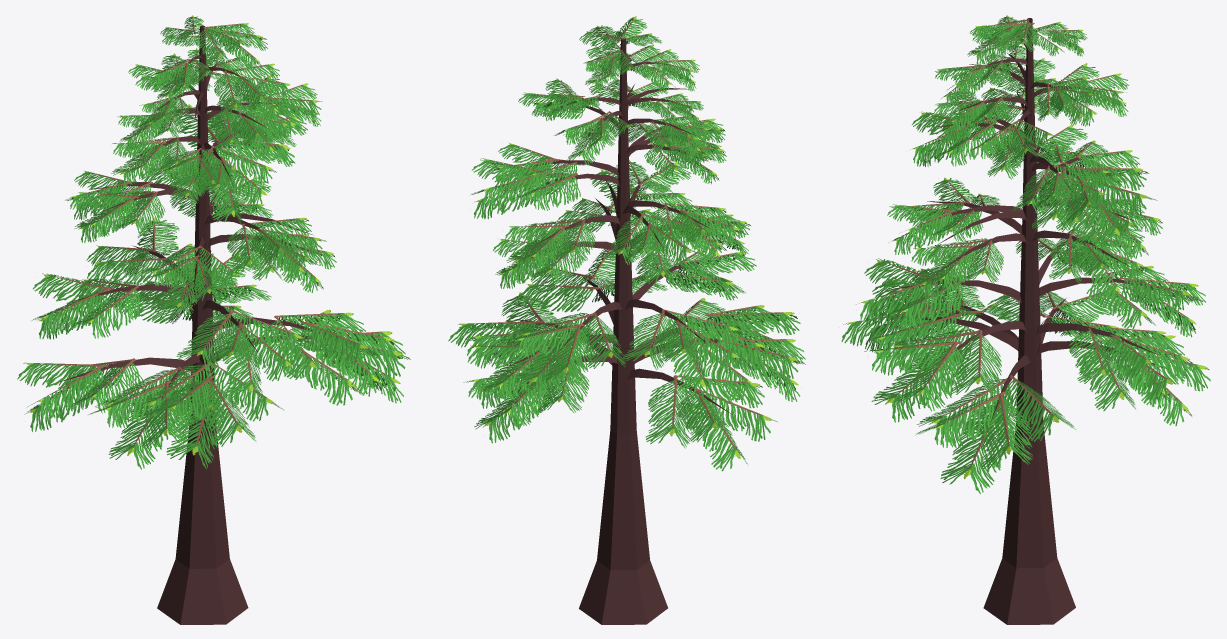
File: Pino.fbx
3 renders of one model, left to right at view 1: azimuth 30°, elevation 25°; view 2: azimuth 150°, elevation 25°; view 3: azimuth 270°, elevation 25°, orthographic. The views are drawn at different scales.
Visible parts, largest first — view 1: Plane.015; view 2: Plane.015; view 3: Plane.015.
Boxes of the visible parts, x1,y1,x2,y2 form: Plane.015: (17, 15, 410, 624); Plane.015: (448, 16, 805, 624); Plane.015: (841, 15, 1210, 624).
Bounding box in the file's own units: 880 × 1403 × 806.
